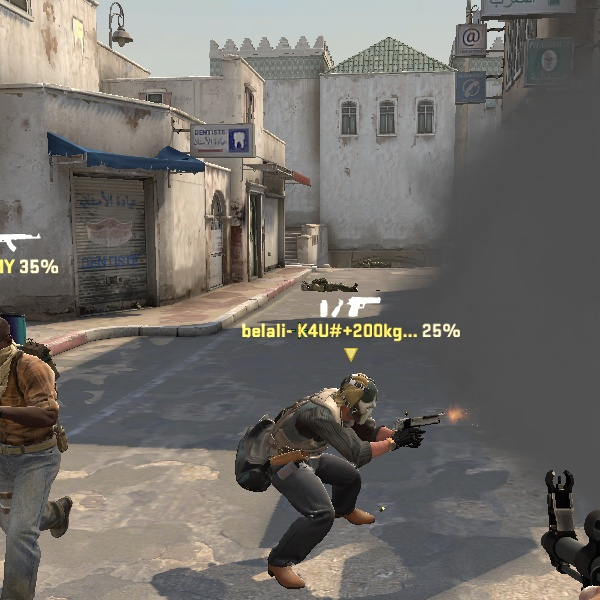t_body: (2, 293, 99, 600), (310, 367, 419, 532)
t_head: (325, 367, 385, 428)
